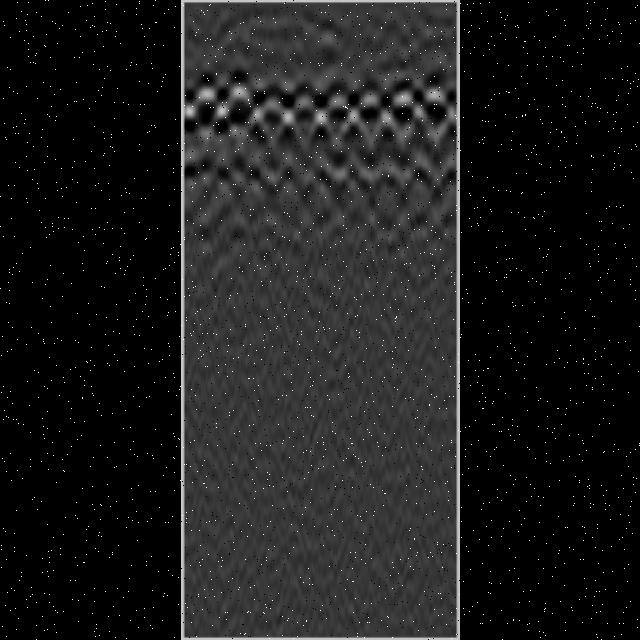hyperbola: (342, 88, 398, 142), (246, 88, 298, 146), (217, 80, 265, 136), (182, 84, 228, 138), (408, 81, 452, 137), (278, 95, 328, 143), (380, 84, 424, 138), (314, 92, 358, 142)
